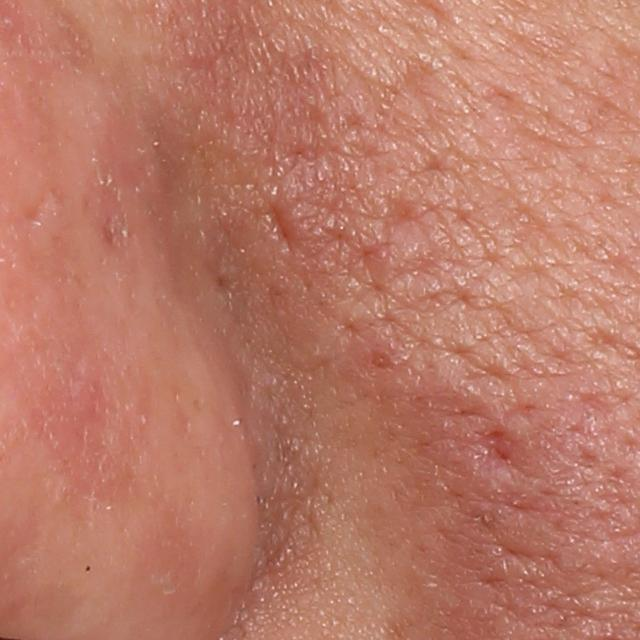atrophic_scar: (472, 426, 545, 491), (257, 192, 308, 258), (22, 190, 49, 226)
